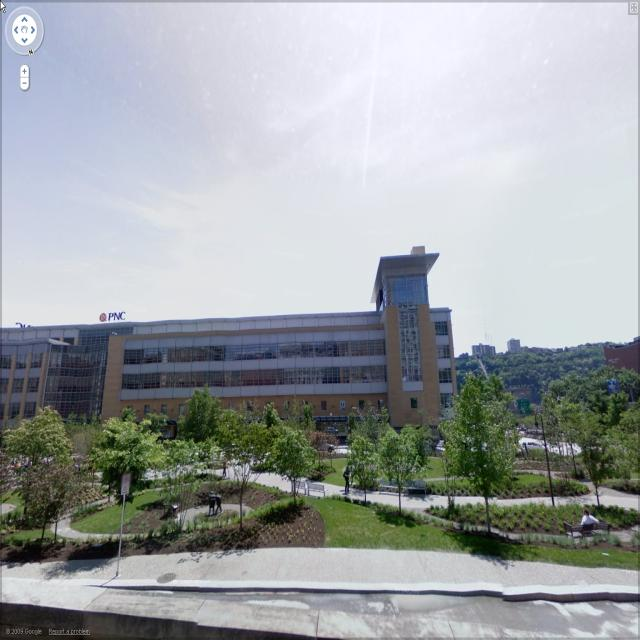b_1: (1, 270, 453, 426), (474, 341, 500, 358), (505, 336, 525, 355)
b_2: (595, 333, 640, 433)
